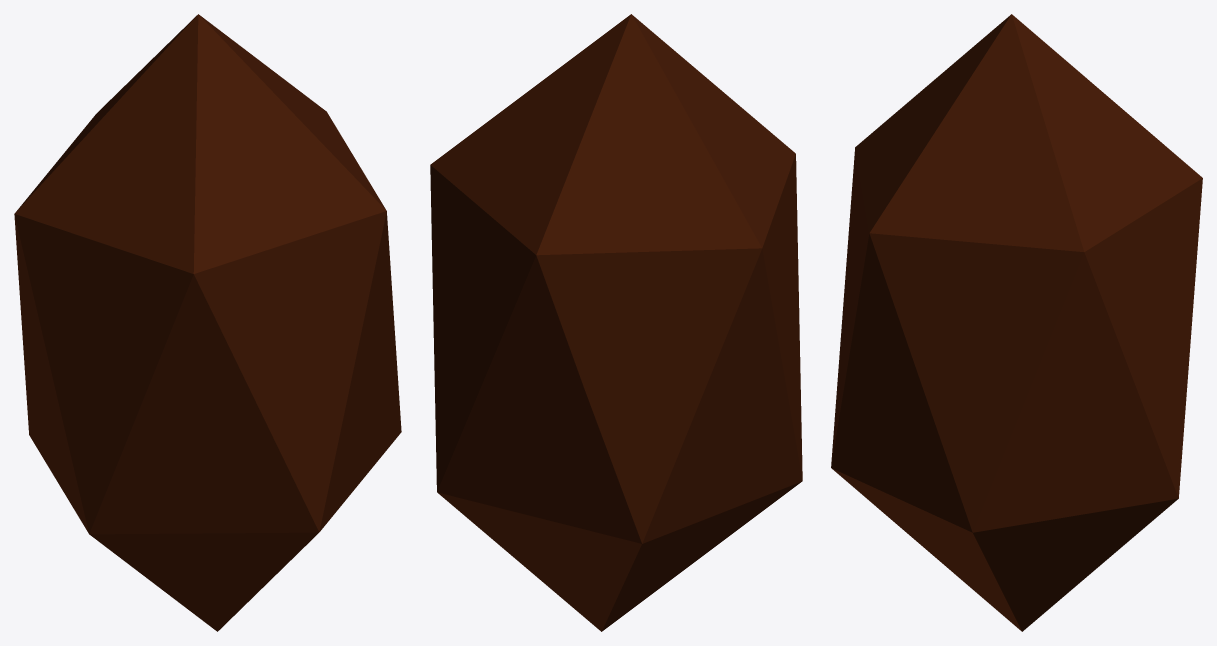
The model's file is Gem_rocks.dae.
The picture shows the model from 3 angles, left to right: view 1: azimuth 30°, elevation 25°; view 2: azimuth 150°, elevation 25°; view 3: azimuth 270°, elevation 25°; orthographic projection. The views are drawn at different scales.
Parts seen in each view (by area): view 1: pasted__polySurface4; view 2: pasted__polySurface4; view 3: pasted__polySurface4.
Boxes of the visible parts, <box> form: pasted__polySurface4: <box>14,14,401,631</box>; pasted__polySurface4: <box>430,14,802,631</box>; pasted__polySurface4: <box>831,14,1202,631</box>.
Bounding box in the file's own units: 1.62 × 2.85 × 1.58.
